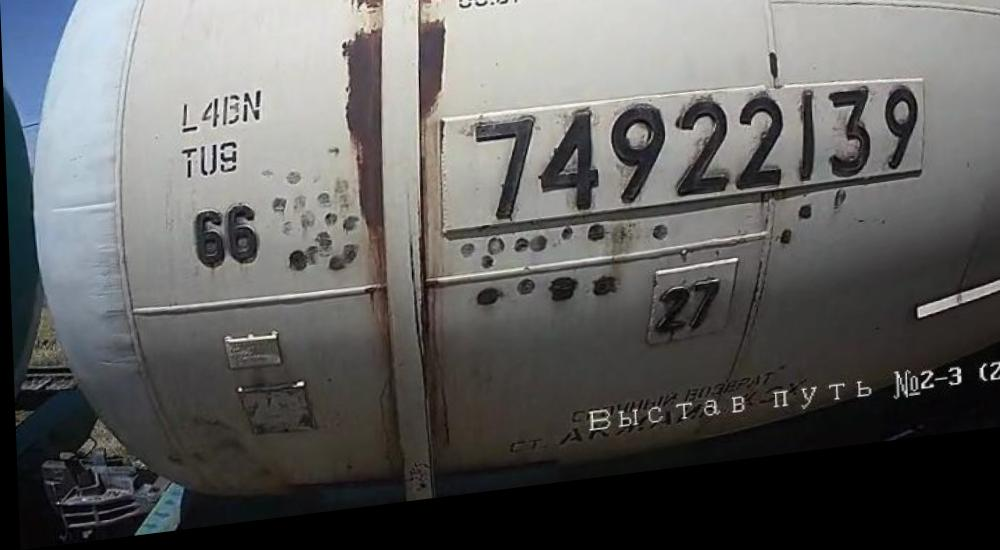Wagon-number: (462, 86, 926, 242)
